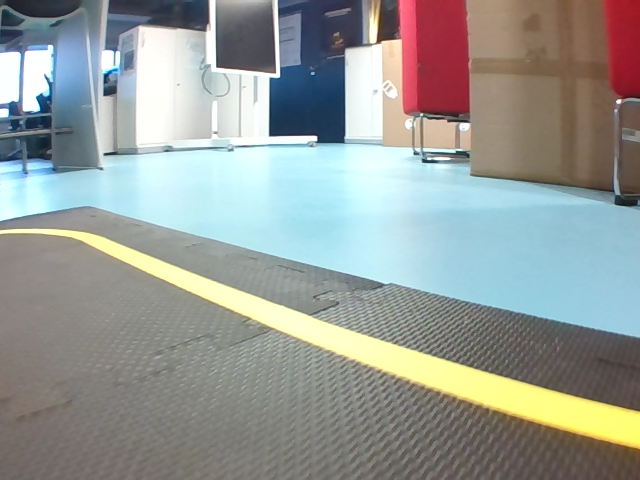stop: (38, 36, 111, 127)
